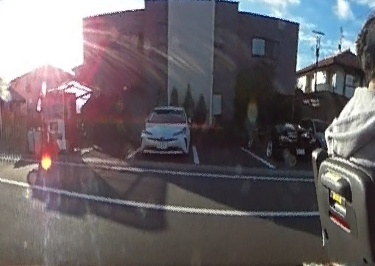person: (331, 9, 375, 250)
